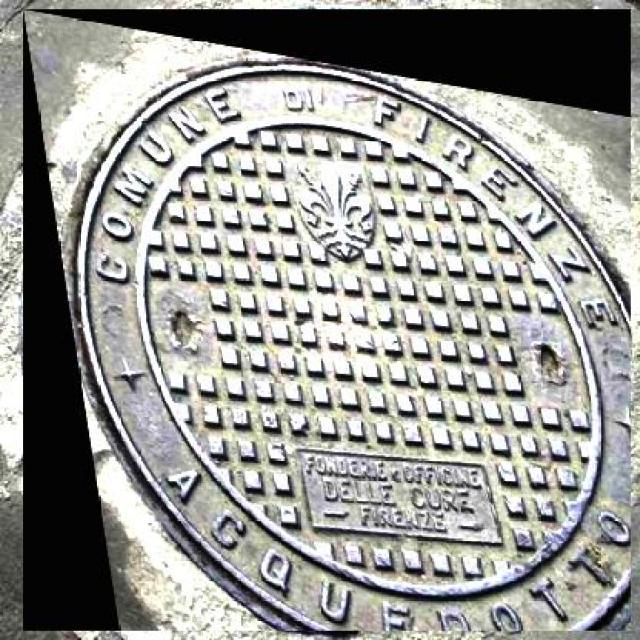Manhole: (23, 10, 631, 631)
